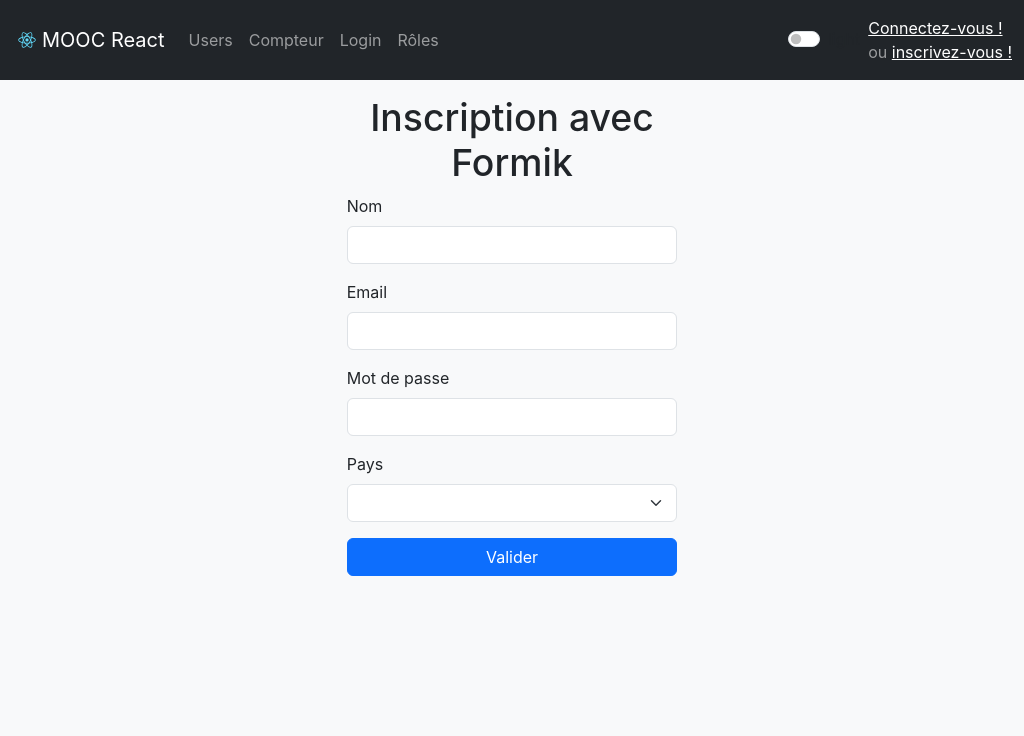
Test: Inscription › devrait afficher une erreur si le mdp est trop court
Type "q" into the password field labelled "Mot de passe".
click(513, 417); type("q")  # box [347,398,678,436]
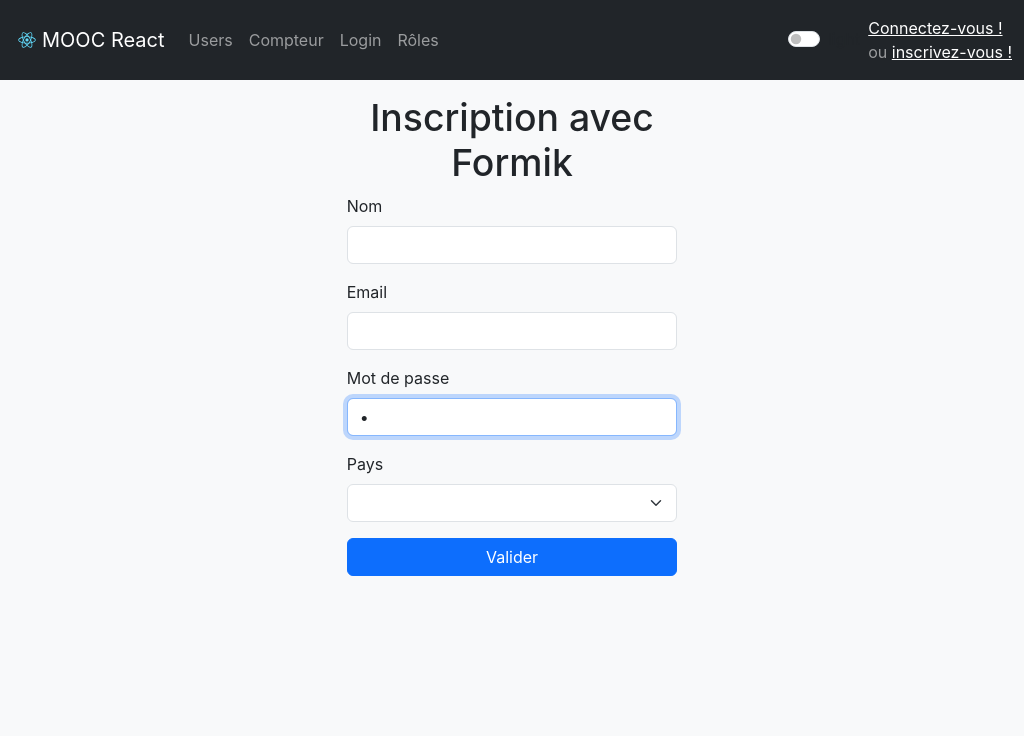
Click the submit button.
click(513, 557)  # box [347,538,678,576]
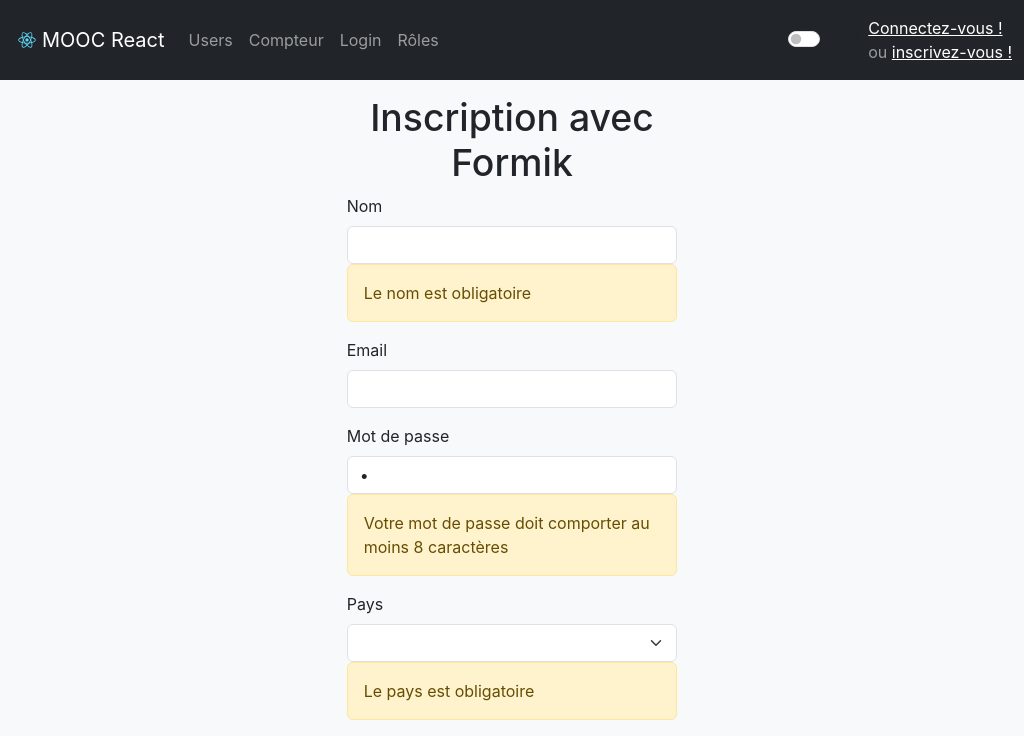
Check: the text with class "alert-warning" reads "Votre mot de passe doit comporter au moins 8 caractères", box [347,494,678,576]
